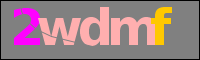2: (12, 6, 41, 46)
d: (79, 3, 110, 48)
f: (151, 5, 175, 50)
m: (110, 15, 156, 46)
w: (38, 16, 80, 45)
